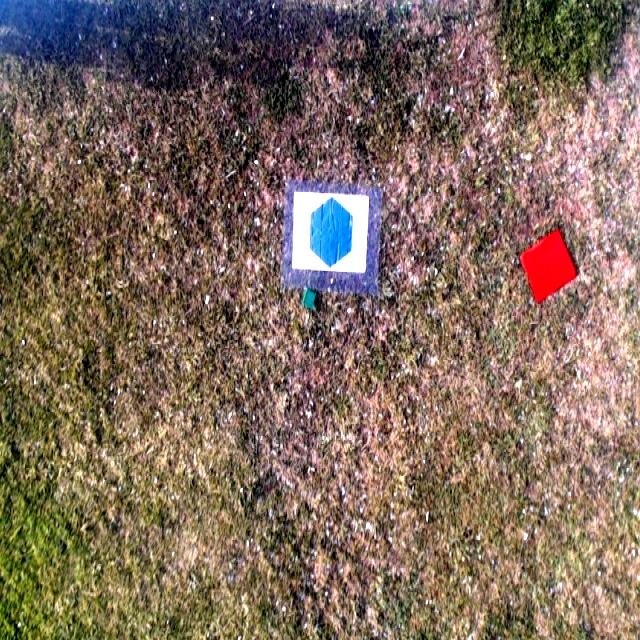blue_hexagon: (308, 196, 354, 266)
red_square: (522, 230, 574, 303)
